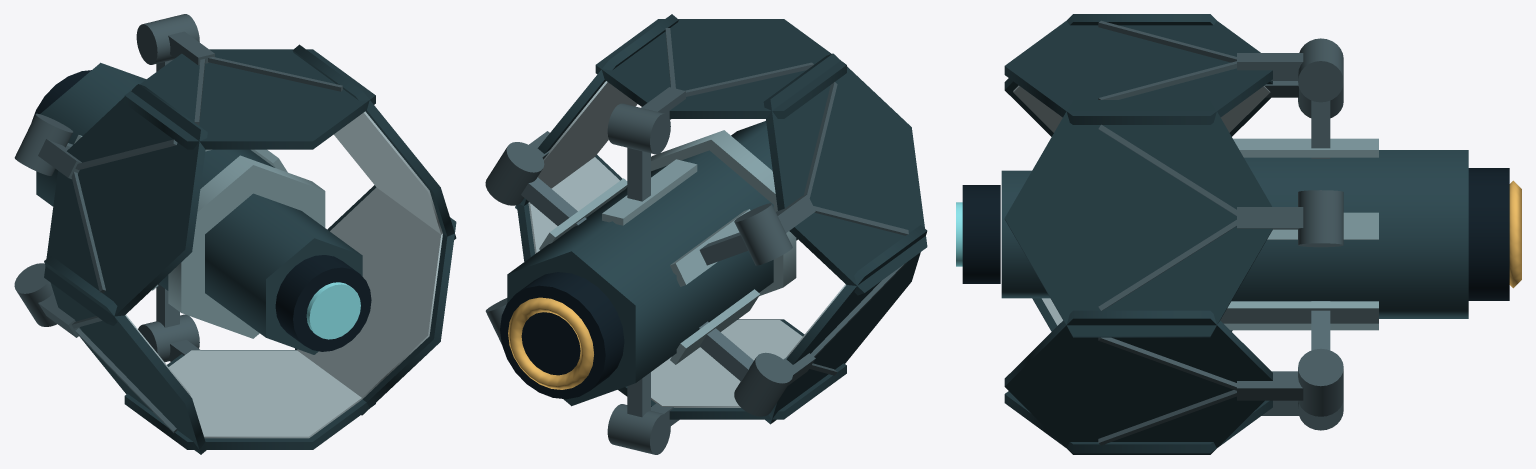
The model's file is satellite_d0_lod0.meshopt.glb.
3 views of the same model, side by side, from view 1: azimuth 30°, elevation 25°; view 2: azimuth 150°, elevation 25°; view 3: azimuth 270°, elevation 25° (orthographic). The views are drawn at different scales.
Visible parts, largest first — view 1: SATELLITE_BUS, PETAL_2_MESH, PETAL_1_MESH, PETAL_4_MESH, PETAL_5_MESH, PETAL_3_MESH, PETAL_6_MESH; view 2: SATELLITE_BUS, PETAL_2_MESH, PETAL_1_MESH, PETAL_4_MESH, PETAL_3_MESH, PETAL_6_MESH, PETAL_5_MESH; view 3: SATELLITE_BUS, PETAL_6_MESH, PETAL_5_MESH, PETAL_1_MESH, PETAL_2_MESH, PETAL_4_MESH.
Boxes of the visible parts, bbox=[...] form: SATELLITE_BUS: bbox=[31, 60, 371, 354]; PETAL_2_MESH: bbox=[14, 84, 207, 325]; PETAL_1_MESH: bbox=[124, 14, 375, 149]; PETAL_4_MESH: bbox=[124, 314, 375, 449]; PETAL_5_MESH: bbox=[295, 185, 456, 415]; PETAL_3_MESH: bbox=[14, 255, 206, 454]; PETAL_6_MESH: bbox=[292, 44, 456, 239]; SATELLITE_BUS: bbox=[500, 121, 797, 417]; PETAL_2_MESH: bbox=[734, 53, 927, 295]; PETAL_1_MESH: bbox=[595, 19, 846, 154]; PETAL_4_MESH: bbox=[607, 319, 846, 454]; PETAL_3_MESH: bbox=[734, 225, 927, 424]; PETAL_6_MESH: bbox=[485, 14, 678, 209]; PETAL_5_MESH: bbox=[485, 155, 622, 343]; SATELLITE_BUS: bbox=[956, 100, 1521, 350]; PETAL_6_MESH: bbox=[1004, 100, 1343, 337]; PETAL_5_MESH: bbox=[1004, 310, 1343, 454]; PETAL_1_MESH: bbox=[1004, 20, 1343, 124]; PETAL_2_MESH: bbox=[1004, 14, 1343, 136]; PETAL_4_MESH: bbox=[1004, 391, 1343, 453].
Size of what is drawn, in the model's own units: 2.31 by 2.14 by 2.97.
